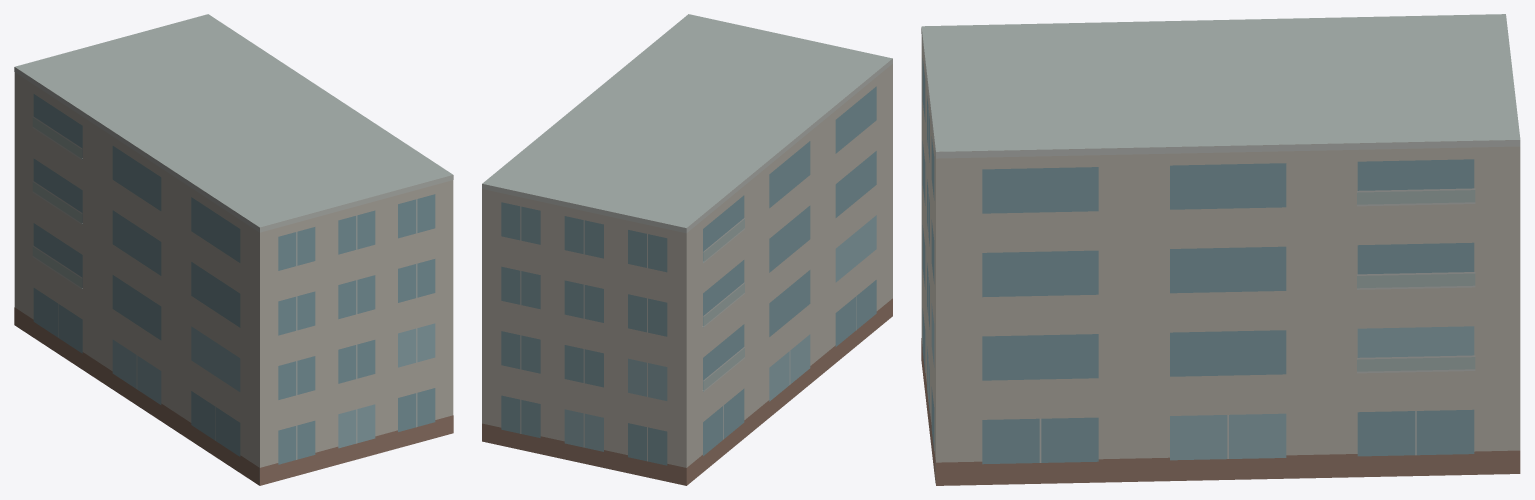
The model's file is residential-95b3b4bb-cd05-4b88-af69-9c2d1510ce3c.glb.
3 renders of one model, left to right at view 1: azimuth 30°, elevation 25°; view 2: azimuth 150°, elevation 25°; view 3: azimuth 270°, elevation 25°, orthographic. The views are drawn at different scales.
Parts seen in each view (by area): view 1: residential-95b3b4bb-cd05-4b88-af69-9c2d1510ce3c.tmp; view 2: residential-95b3b4bb-cd05-4b88-af69-9c2d1510ce3c.tmp; view 3: residential-95b3b4bb-cd05-4b88-af69-9c2d1510ce3c.tmp.
Part boxes in pixels (x1,y1,x2,y2): residential-95b3b4bb-cd05-4b88-af69-9c2d1510ce3c.tmp: (14, 14, 453, 485); residential-95b3b4bb-cd05-4b88-af69-9c2d1510ce3c.tmp: (482, 14, 892, 485); residential-95b3b4bb-cd05-4b88-af69-9c2d1510ce3c.tmp: (921, 14, 1520, 485).
Size of the model in its own units: 10.81 by 12.2 by 19.84.
